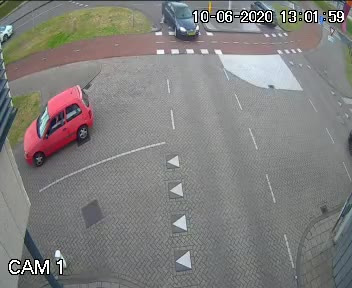car: (6, 82, 97, 166), (165, 0, 204, 41), (243, 0, 283, 37)
